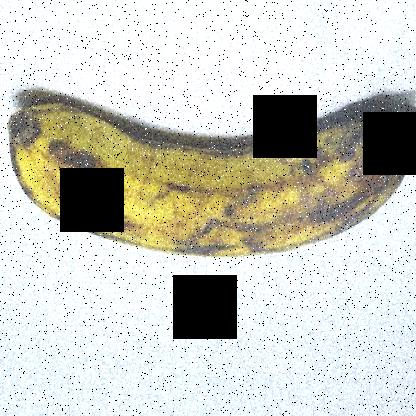overripe: (0, 68, 415, 273)
